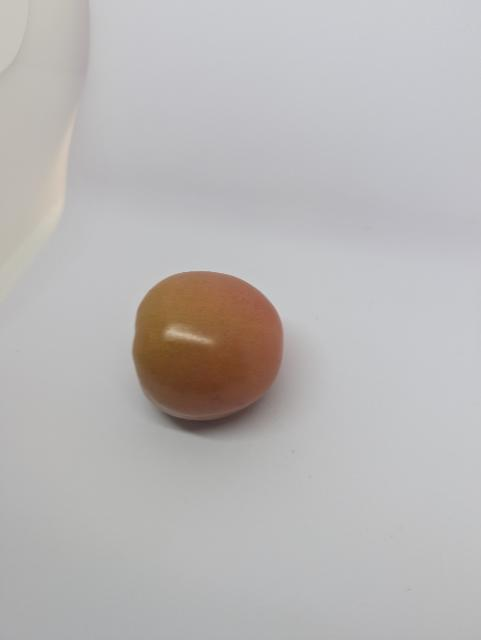turning: (128, 256, 289, 426)
